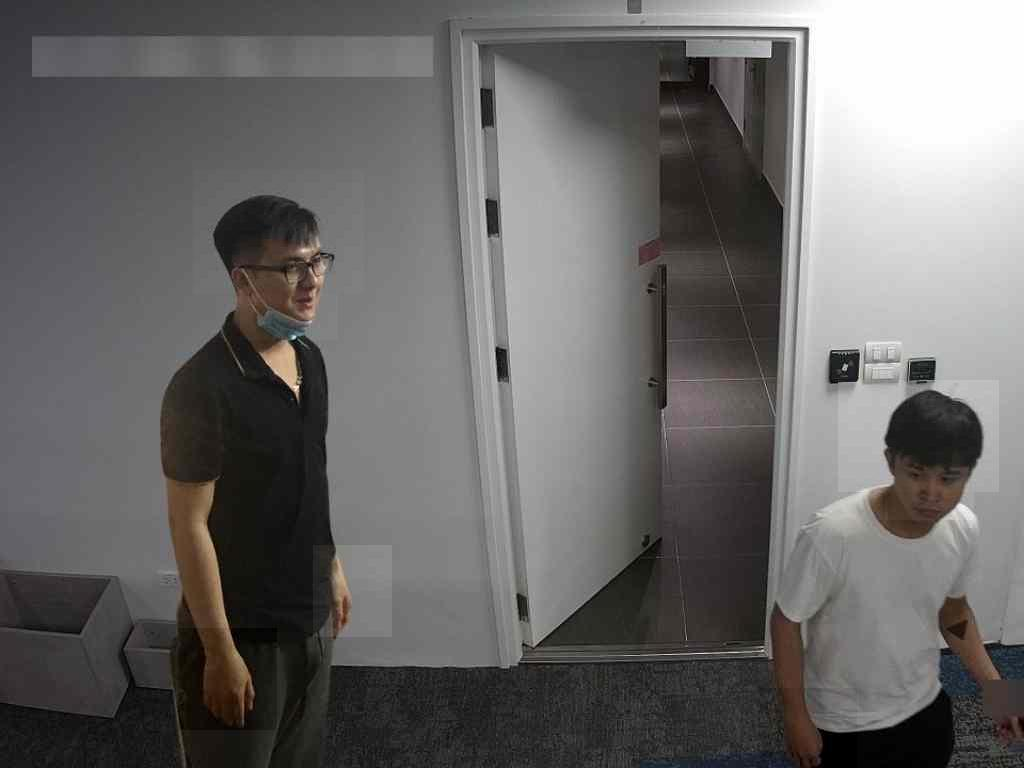no_apron: (178, 628, 277, 730), (758, 688, 857, 768), (313, 546, 392, 638)
no_gloves: (193, 170, 364, 294), (838, 381, 999, 493)
no_hairnet: (240, 228, 338, 340), (885, 415, 974, 520)
